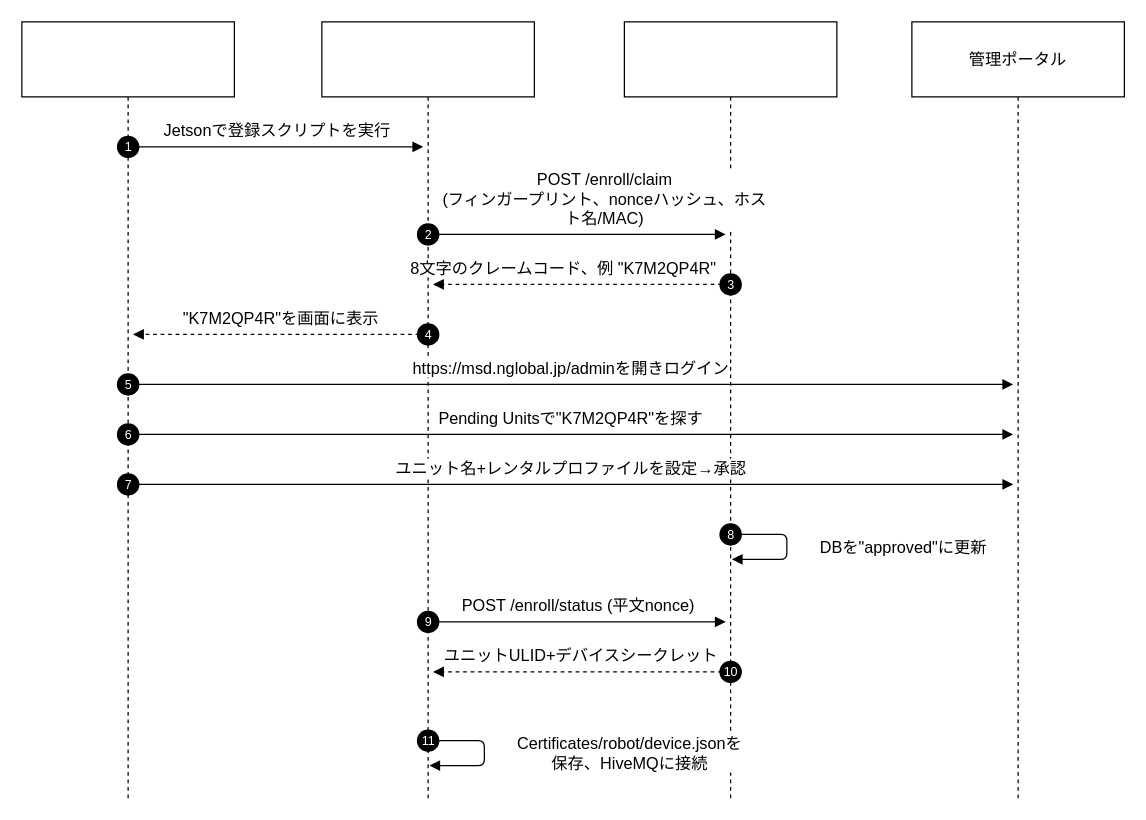
This 1146x820 diagram has some shape labels left out. The box of each missing label's shape, as (x1, y1, x2, y2) in pixels:
クラウドバックエンド: (623, 21, 837, 798)
ロボット (Jetson): (321, 21, 534, 798)
現場技術者: (21, 21, 234, 798)
